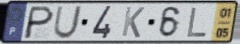4: (91, 5, 113, 41)
6: (157, 6, 182, 39)
K: (120, 6, 146, 39)
L: (185, 6, 208, 38)
P: (21, 5, 56, 41)
U: (52, 5, 84, 40)
